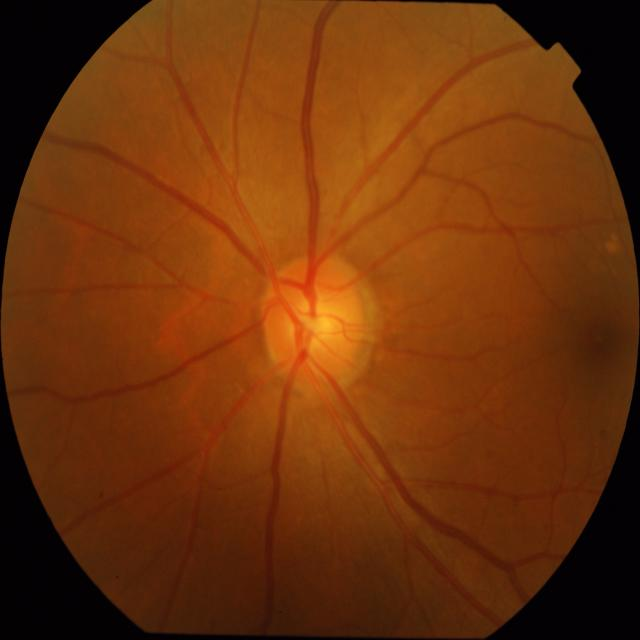OC: (288, 288, 346, 351)
OD: (260, 254, 368, 389)
